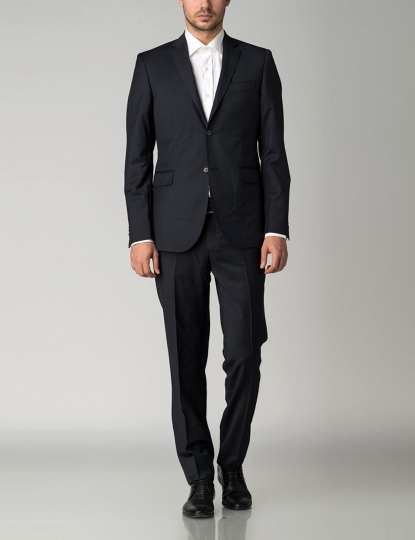feet: (170, 440, 253, 520)
